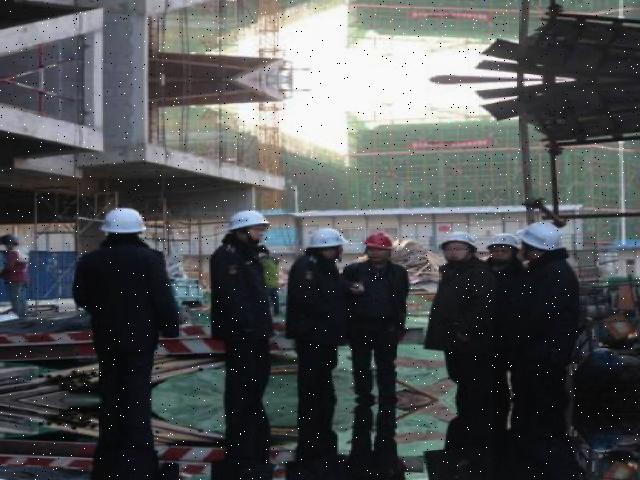Helmet: (517, 215, 572, 252), (101, 203, 153, 237), (226, 206, 276, 236), (304, 224, 354, 252), (436, 226, 485, 252), (363, 228, 399, 251), (488, 229, 521, 252)
